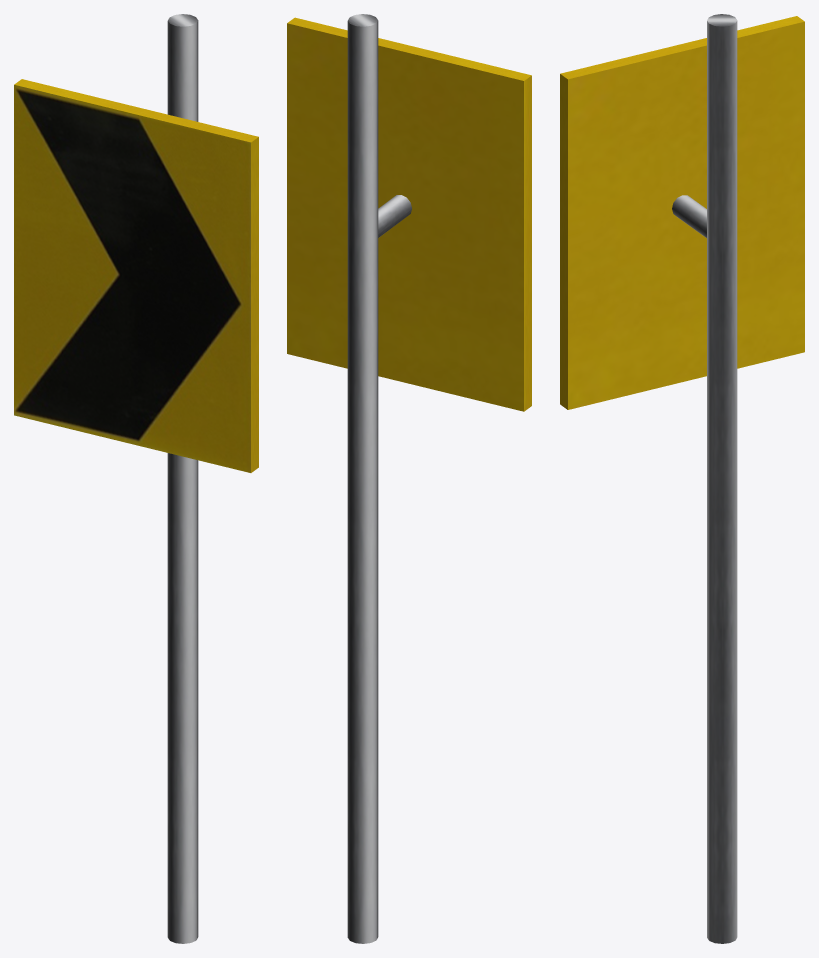
The picture shows the model from 3 angles, left to right: view 1: azimuth 30°, elevation 25°; view 2: azimuth 210°, elevation 25°; view 3: azimuth 270°, elevation 25°; orthographic projection.
Parts seen in each view (by area): view 1: MainBuilding; view 2: MainBuilding; view 3: MainBuilding.
Part boxes in pixels (<box>): MainBuilding: <box>14,14,258,943</box>; MainBuilding: <box>287,14,531,943</box>; MainBuilding: <box>560,14,804,943</box>.
Bounding box in the file's own units: 0.2746 × 1.66 × 0.4025.
1 material, 1 textured.
